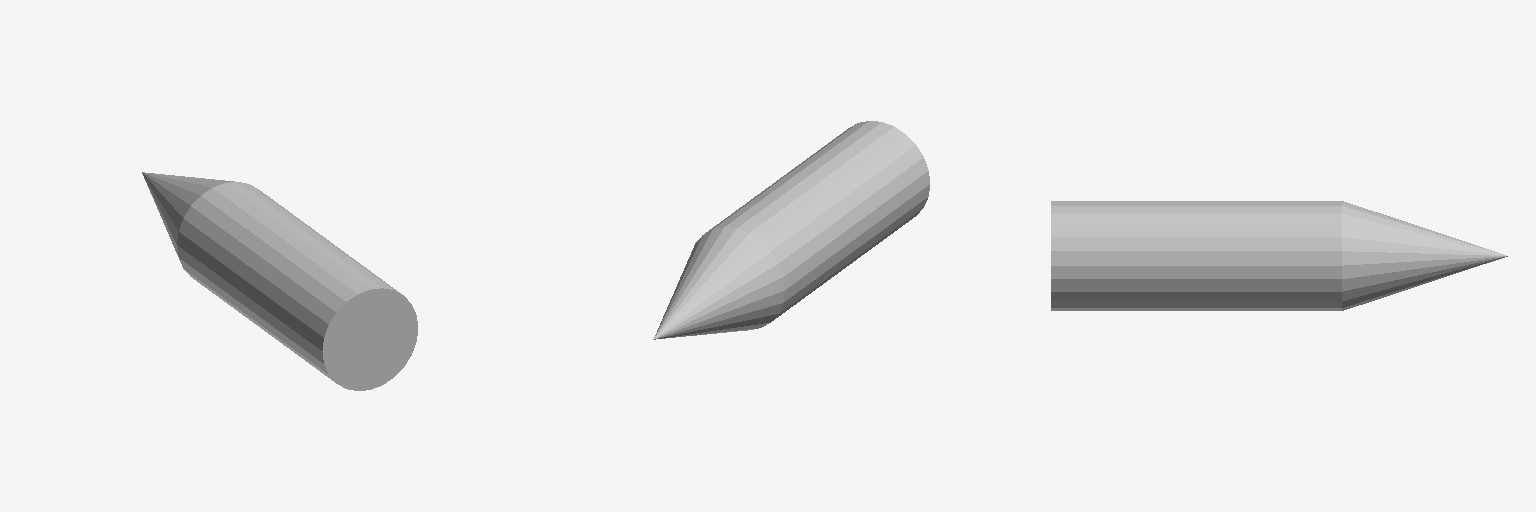
File: stylus_collision.obj
The picture shows the model from 3 angles: view 1: azimuth 30°, elevation 25°; view 2: azimuth 150°, elevation 25°; view 3: azimuth 270°, elevation 25°; orthographic projection.
Parts seen in each view (by area): view 1: default.001; view 2: default.001; view 3: default.001.
Boxes of the visible parts, box(x1,y1,x2,y2) form: default.001: box(142, 172, 417, 390); default.001: box(653, 121, 929, 339); default.001: box(1051, 201, 1507, 310).
Size of the model in its own units: 0.3096 by 0.3096 by 1.28.